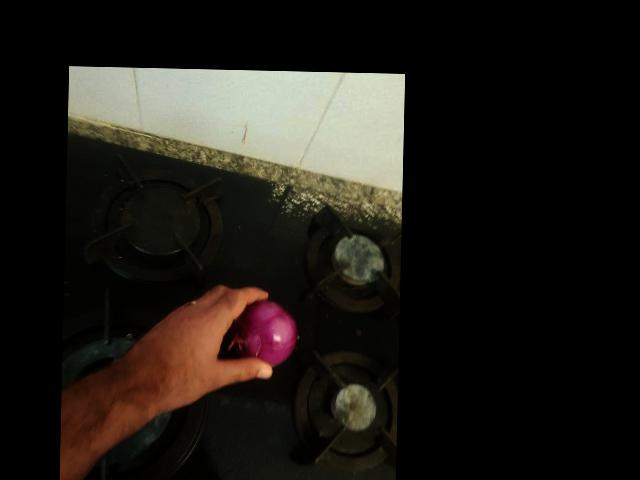onion: (298, 174, 362, 238)
